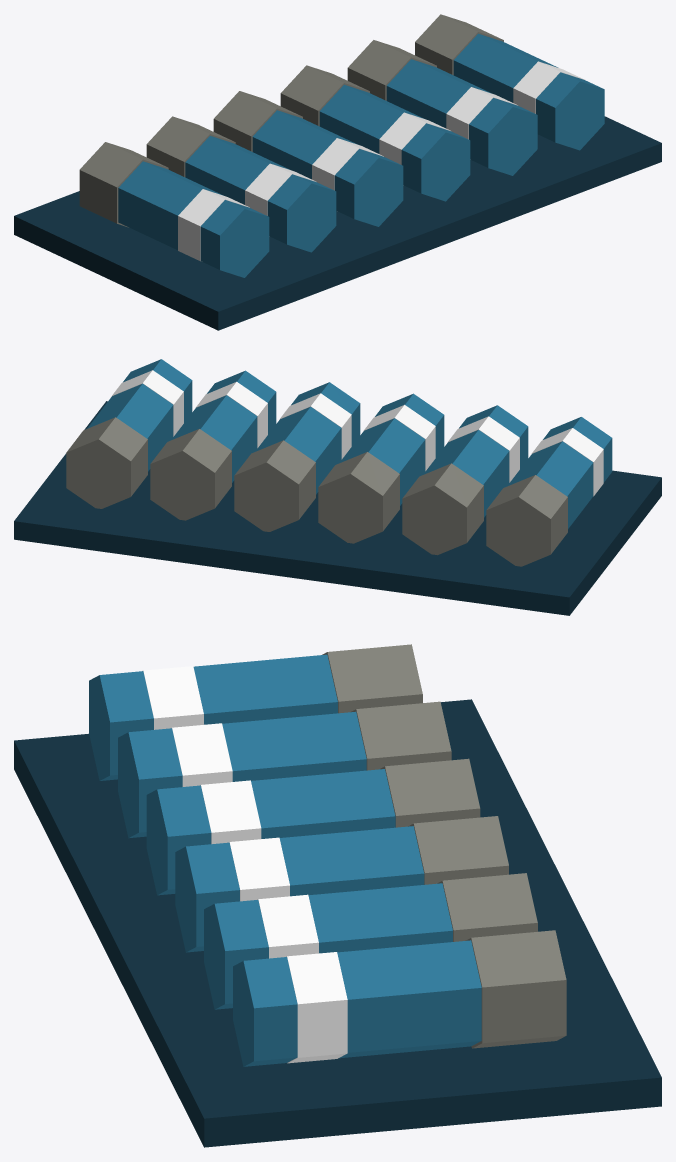
File: ce_ammo_chshotgun_ion_b.obj
3 renders of one model, top to bottom at view 1: azimuth 30°, elevation 25°; view 2: azimuth 150°, elevation 25°; view 3: azimuth 270°, elevation 25°, orthographic. The views are drawn at different scales.
Parts seen in each view (by area): view 1: ce_ammo_chshotgun_ion_b_0, ce_ammo_chshotgun_ion_b_2, ce_ammo_chshotgun_ion_b_4, ce_ammo_chshotgun_ion_b_16, ce_ammo_chshotgun_ion_b_12, ce_ammo_chshotgun_ion_b_8, ce_ammo_chshotgun_ion_b_24, ce_ammo_chshotgun_ion_b_20, ce_ammo_chshotgun_ion_b_18, ce_ammo_chshotgun_ion_b_14, ce_ammo_chshotgun_ion_b_22, ce_ammo_chshotgun_ion_b_6 (+13 smaller); view 2: ce_ammo_chshotgun_ion_b_0, ce_ammo_chshotgun_ion_b_5, ce_ammo_chshotgun_ion_b_1, ce_ammo_chshotgun_ion_b_13, ce_ammo_chshotgun_ion_b_17, ce_ammo_chshotgun_ion_b_21, ce_ammo_chshotgun_ion_b_9, ce_ammo_chshotgun_ion_b_2, ce_ammo_chshotgun_ion_b_18, ce_ammo_chshotgun_ion_b_14, ce_ammo_chshotgun_ion_b_6, ce_ammo_chshotgun_ion_b_10 (+13 smaller); view 3: ce_ammo_chshotgun_ion_b_0, ce_ammo_chshotgun_ion_b_22, ce_ammo_chshotgun_ion_b_21, ce_ammo_chshotgun_ion_b_6, ce_ammo_chshotgun_ion_b_14, ce_ammo_chshotgun_ion_b_10, ce_ammo_chshotgun_ion_b_18, ce_ammo_chshotgun_ion_b_2, ce_ammo_chshotgun_ion_b_24, ce_ammo_chshotgun_ion_b_23, ce_ammo_chshotgun_ion_b_5, ce_ammo_chshotgun_ion_b_13 (+13 smaller).
Part boxes in pixels (box(x1,y1,x2,y2)): ce_ammo_chshotgun_ion_b_0: box(14, 116, 661, 330); ce_ammo_chshotgun_ion_b_2: box(118, 161, 223, 250); ce_ammo_chshotgun_ion_b_4: box(200, 200, 269, 277); ce_ammo_chshotgun_ion_b_16: box(401, 123, 470, 201); ce_ammo_chshotgun_ion_b_12: box(334, 149, 403, 226); ce_ammo_chshotgun_ion_b_8: box(267, 174, 336, 252); ce_ammo_chshotgun_ion_b_24: box(536, 72, 604, 150); ce_ammo_chshotgun_ion_b_20: box(469, 98, 537, 175); ce_ammo_chshotgun_ion_b_18: box(386, 59, 491, 128); ce_ammo_chshotgun_ion_b_14: box(319, 84, 424, 153); ce_ammo_chshotgun_ion_b_22: box(453, 33, 558, 102); ce_ammo_chshotgun_ion_b_6: box(185, 136, 289, 204); ce_ammo_chshotgun_ion_b_0: box(14, 401, 661, 615); ce_ammo_chshotgun_ion_b_5: box(402, 463, 483, 555); ce_ammo_chshotgun_ion_b_1: box(486, 475, 567, 566); ce_ammo_chshotgun_ion_b_13: box(234, 440, 315, 531); ce_ammo_chshotgun_ion_b_17: box(150, 429, 231, 520); ce_ammo_chshotgun_ion_b_21: box(66, 417, 147, 508); ce_ammo_chshotgun_ion_b_9: box(318, 452, 399, 543); ce_ammo_chshotgun_ion_b_2: box(507, 441, 593, 528); ce_ammo_chshotgun_ion_b_18: box(171, 395, 257, 482); ce_ammo_chshotgun_ion_b_14: box(255, 406, 341, 494); ce_ammo_chshotgun_ion_b_6: box(423, 430, 509, 517); ce_ammo_chshotgun_ion_b_10: box(339, 418, 425, 505); ce_ammo_chshotgun_ion_b_0: box(14, 699, 661, 1147); ce_ammo_chshotgun_ion_b_22: box(337, 940, 481, 1058); ce_ammo_chshotgun_ion_b_21: box(465, 930, 566, 1048); ce_ammo_chshotgun_ion_b_6: box(222, 711, 366, 781); ce_ammo_chshotgun_ion_b_14: box(279, 826, 424, 896); ce_ammo_chshotgun_ion_b_10: box(251, 769, 395, 838); ce_ammo_chshotgun_ion_b_18: box(308, 883, 452, 953); ce_ammo_chshotgun_ion_b_2: box(193, 654, 337, 724); ce_ammo_chshotgun_ion_b_24: box(233, 957, 297, 1066); ce_ammo_chshotgun_ion_b_23: box(286, 952, 347, 1063); ce_ammo_chshotgun_ion_b_5: box(351, 701, 451, 770); ce_ammo_chshotgun_ion_b_13: box(408, 816, 508, 884).
Size of the model in its own units: 0.9326 by 0.1427 by 0.6092.
